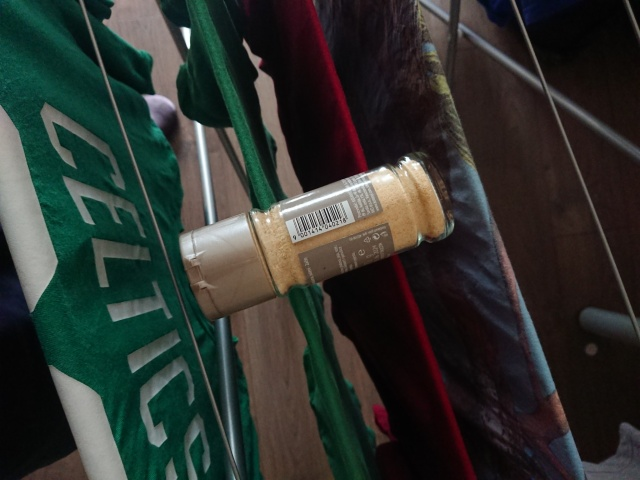Kotanyi Garlic Granules 70g: (174, 147, 459, 324)
